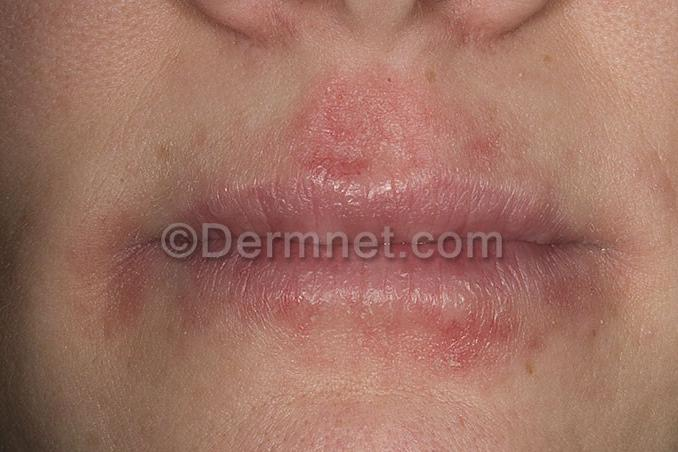eritema 1: (288, 72, 533, 184)
exudacion 1: (435, 309, 527, 380), (293, 145, 375, 182)
xerosis 1: (72, 179, 628, 346)
